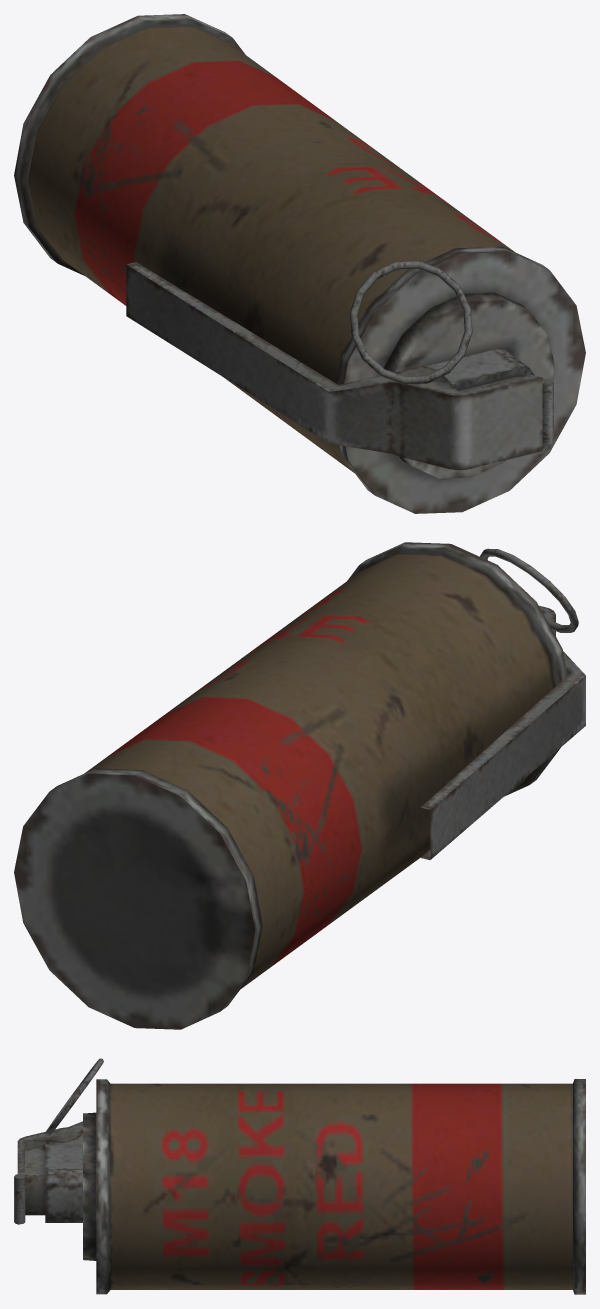
File: weapon_usa_smoke_grenade_LOD00.obj
3 renders of one model, top to bottom at view 1: azimuth 30°, elevation 25°; view 2: azimuth 150°, elevation 25°; view 3: azimuth 270°, elevation 25°, orthographic. The views are drawn at different scales.
Parts seen in each view (by area): view 1: TomGroup_0; view 2: TomGroup_0; view 3: TomGroup_0.
Boxes of the visible parts, x1,y1,x2,y2 form: TomGroup_0: (14,14,585,513); TomGroup_0: (14,542,585,1029); TomGroup_0: (14,1058,585,1294).
Size of the model in its own units: 6.2 by 5.57 by 14.49.
1 material, 1 textured.
